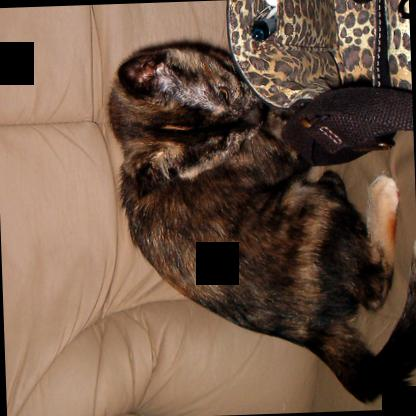handbag: (227, 0, 413, 163)
